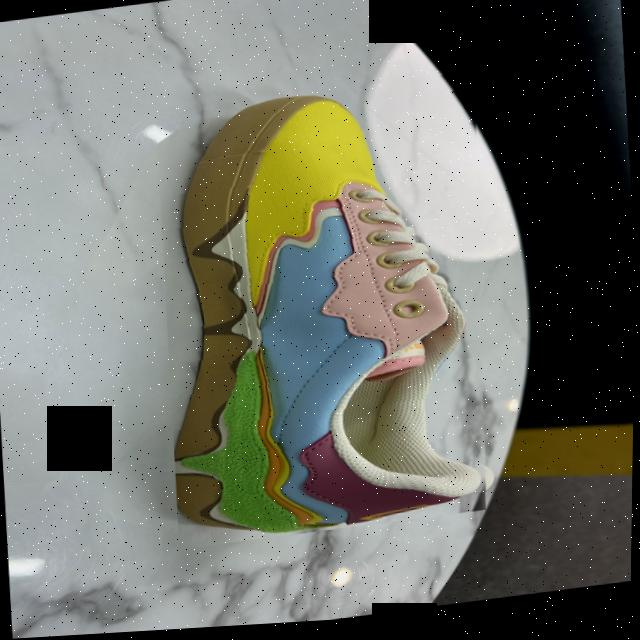shoe: (150, 75, 506, 552)
